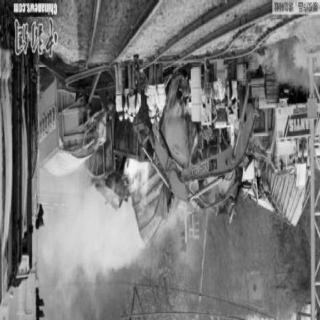Fire: (113, 147, 159, 233)
